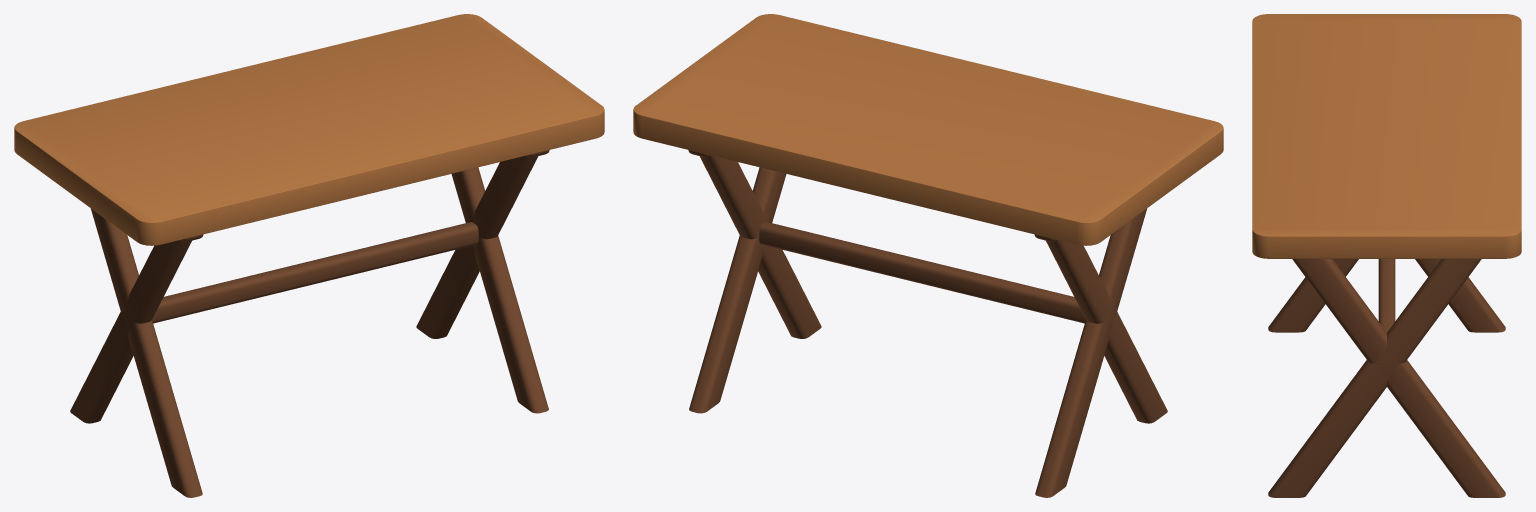
The model's file is mesa_jantar_cavalete_x_madeira.glb.
3 renders of one model, left to right at view 1: azimuth 30°, elevation 25°; view 2: azimuth 150°, elevation 25°; view 3: azimuth 270°, elevation 25°, orthographic. The views are drawn at different scales.
Visible parts, largest first — view 1: mesa_jantar_cavalete_x_madeira; view 2: mesa_jantar_cavalete_x_madeira; view 3: mesa_jantar_cavalete_x_madeira.
Boxes of the visible parts, box(x1,y1,x2,y2) form: mesa_jantar_cavalete_x_madeira: box(14, 14, 604, 497); mesa_jantar_cavalete_x_madeira: box(633, 14, 1223, 497); mesa_jantar_cavalete_x_madeira: box(1252, 14, 1521, 497).
Bounding box in the file's own units: 1.25 × 0.75 × 0.64.
1 material, 1 textured.
